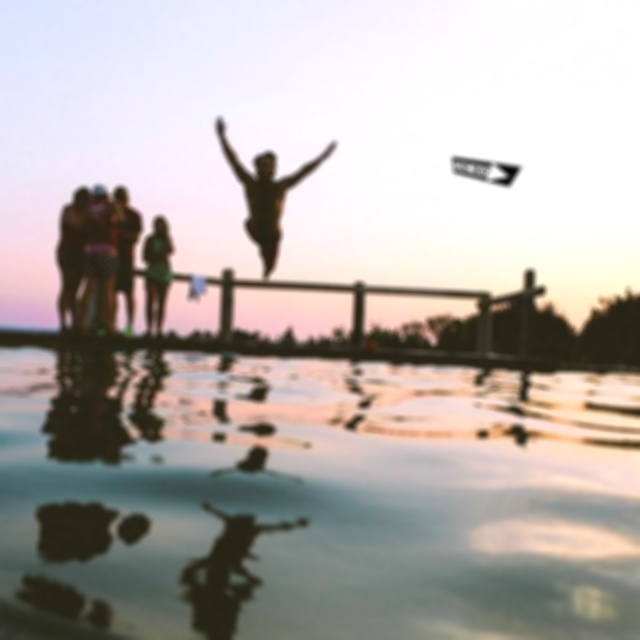ONE_WAY_ right: (451, 156, 522, 187)
